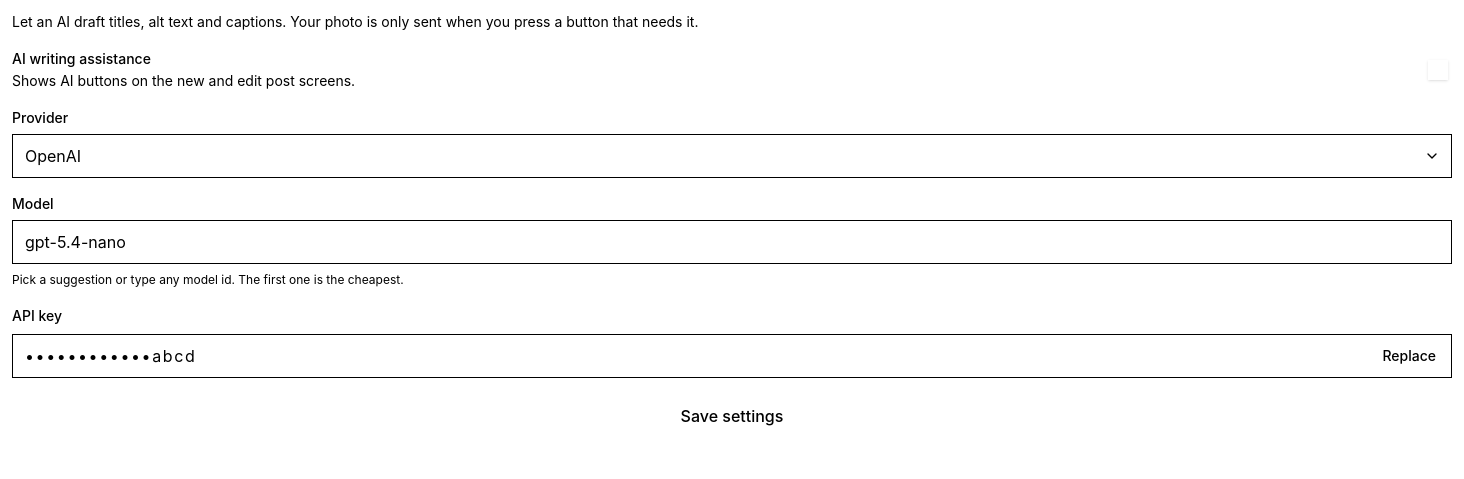
Scenario: AiSettingsForm › Given a saved key, should show it masked with its hint and omit apiKey when saving
Expected: the field labelled "API key" holds "••••••••••••abcd", x1=12 y1=334 x2=1452 y2=378
Click the button "Save settings" at coordinates (732, 416), box x1=12 y1=394 x2=1452 y2=438
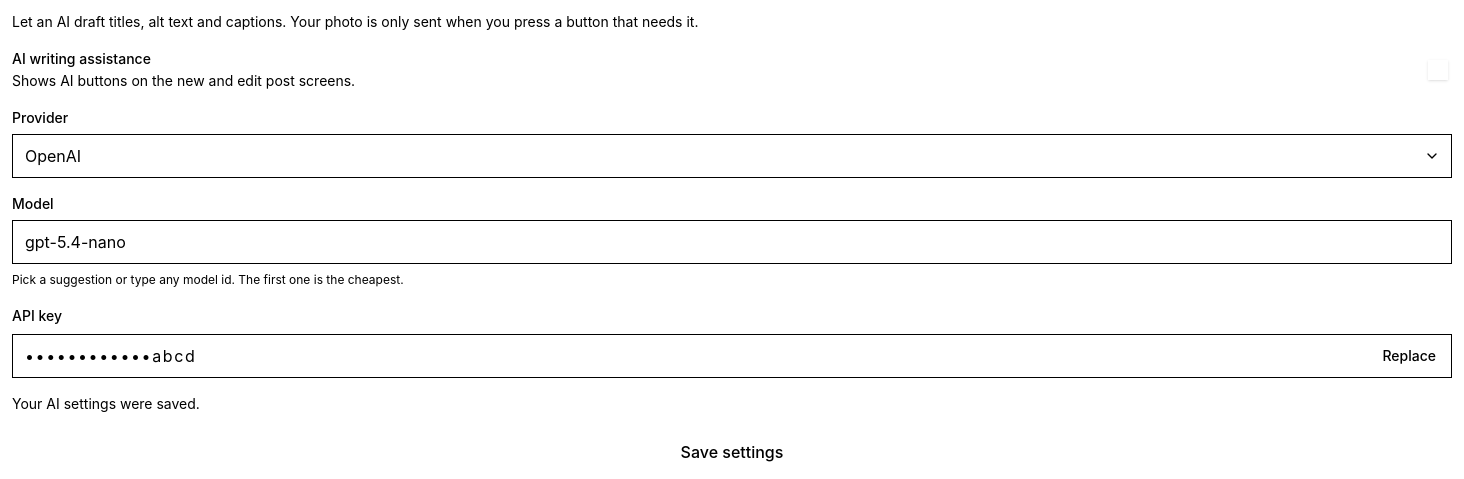
Expected: the message reads "Your AI settings were saved.", x1=12 y1=394 x2=200 y2=412
